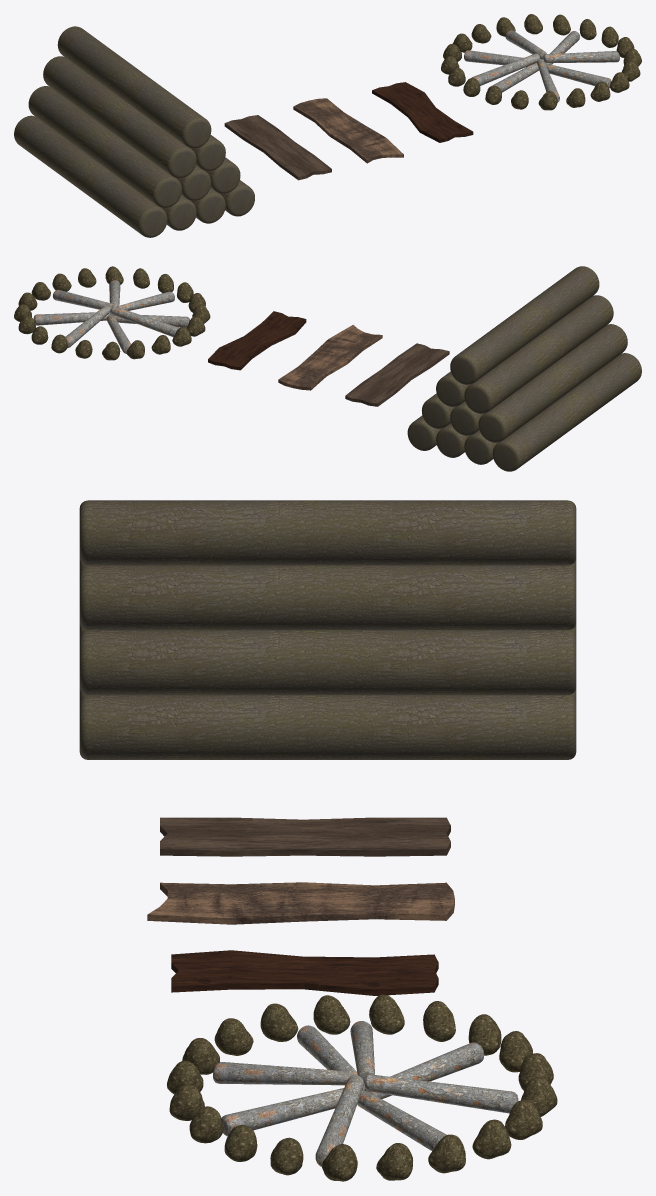
File: Wooden_Props.fbx
The picture shows the model from 3 angles, top to bottom: view 1: azimuth 30°, elevation 25°; view 2: azimuth 150°, elevation 25°; view 3: azimuth 270°, elevation 25°; orthographic projection. The views are drawn at different scales.
Parts seen in each view (by area): view 1: Wood_Stack, Firepit, Plank2, Plank1, Plank3; view 2: Wood_Stack, Firepit, Plank2, Plank1, Plank3; view 3: Wood_Stack, Firepit, Plank2, Plank1, Plank3.
Part boxes in pixels (x1,y1,x2,y2): Wood_Stack: (14,26,254,237); Firepit: (441,14,641,110); Plank2: (293,98,403,163); Plank1: (224,115,331,180); Plank3: (372,82,473,142); Wood_Stack: (407,266,641,471); Firepit: (14,266,210,360); Plank2: (278,325,382,390); Plank1: (345,343,449,406); Plank3: (208,311,306,370); Wood_Stack: (79,500,576,759); Firepit: (167,994,557,1181); Plank2: (147,882,454,924); Plank1: (160,817,450,856); Plank3: (171,950,438,995).
Bounding box in the file's own units: 5.08 × 0.9424 × 2.
